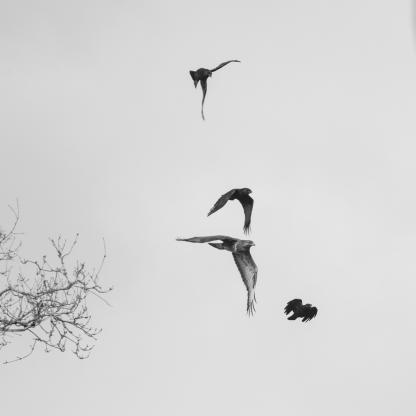bird: (176, 236, 256, 315), (190, 58, 242, 119), (209, 186, 253, 237), (284, 298, 318, 326)
